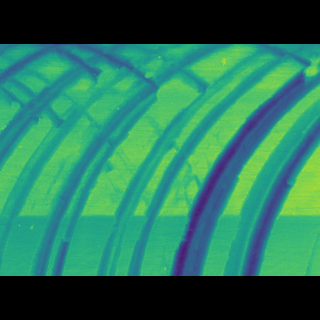Loch: (95, 81, 294, 244), (165, 86, 319, 244), (26, 99, 159, 244), (219, 117, 320, 244), (0, 78, 93, 168)
